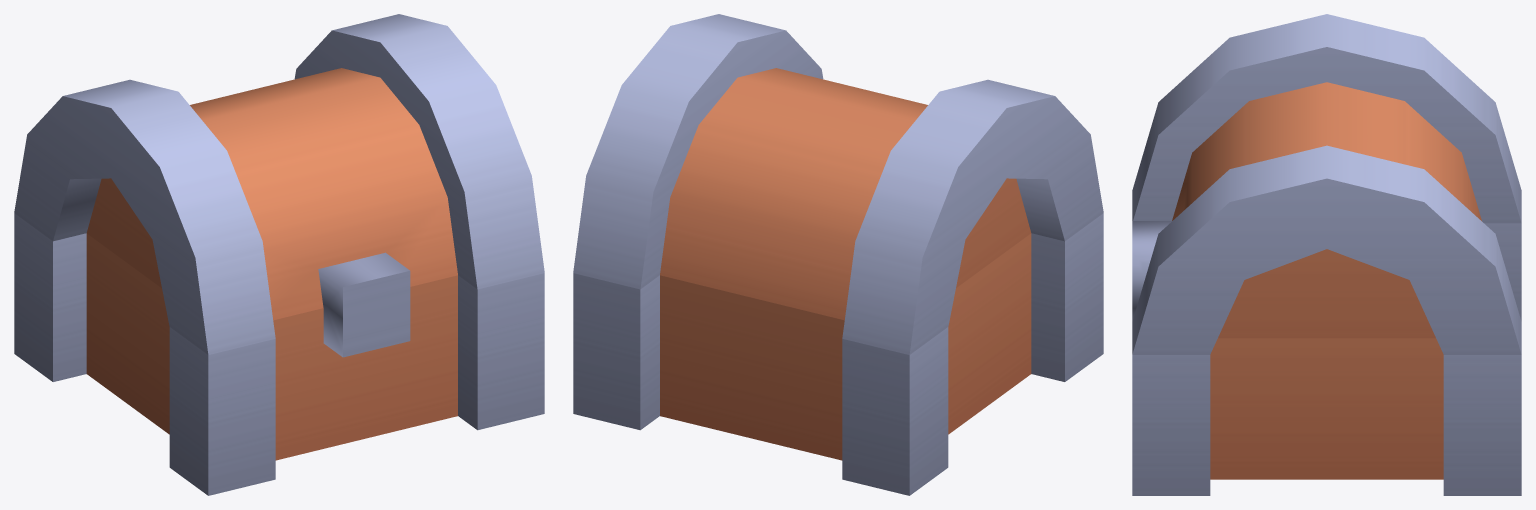
The model's file is chest.obj.
3 renders of one model, left to right at view 1: azimuth 30°, elevation 25°; view 2: azimuth 150°, elevation 25°; view 3: azimuth 270°, elevation 25°, orthographic.
Parts seen in each view (by area): view 1: lid, chest; view 2: lid, chest; view 3: lid, chest.
Part boxes in pixels (box(x1,y1,x2,y2)): lid: box(14, 14, 544, 357); chest: box(14, 213, 544, 495); lid: box(573, 14, 1103, 354); chest: box(573, 213, 1103, 495); lid: box(1132, 14, 1521, 354); chest: box(1132, 223, 1521, 495).
Bounding box in the file's own units: 1.27 × 1.15 × 1.27.
Materials: 1 (1 with a texture image).
